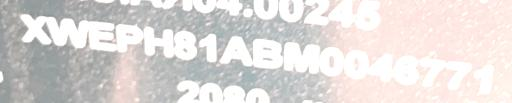letter: (46, 14, 90, 49), (282, 40, 320, 75), (218, 33, 254, 68), (251, 36, 283, 71), (18, 13, 52, 45), (142, 26, 174, 59), (444, 59, 474, 92), (88, 19, 118, 52), (366, 50, 394, 85), (114, 24, 144, 55), (342, 47, 370, 80), (392, 53, 420, 86), (173, 29, 199, 62), (472, 62, 496, 97), (419, 55, 445, 87), (319, 46, 345, 77), (199, 32, 219, 63)
